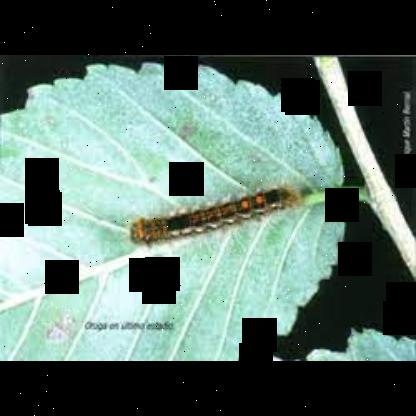oruga: (123, 173, 301, 259)
